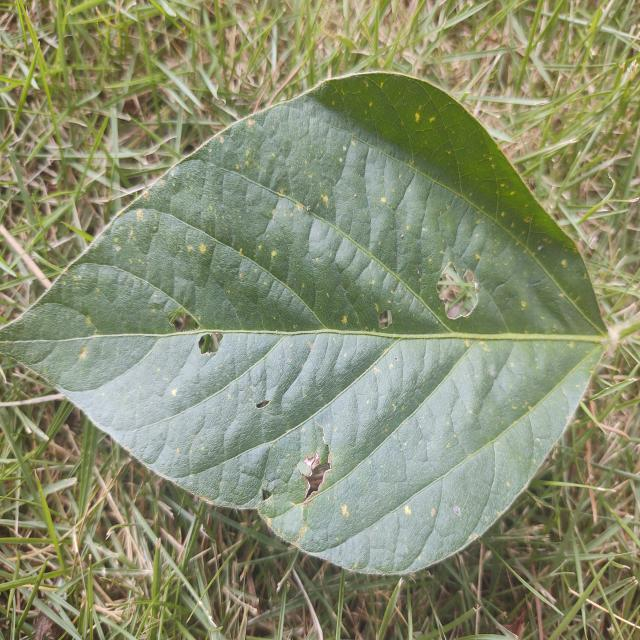Soybean: (0, 72, 609, 582)
downey_mildew: (450, 152, 600, 323), (267, 241, 391, 388), (300, 201, 406, 325), (405, 244, 502, 360), (340, 75, 425, 195), (335, 267, 431, 359), (281, 425, 356, 510), (159, 322, 251, 388), (263, 436, 330, 510), (224, 167, 311, 216), (443, 330, 617, 344)
